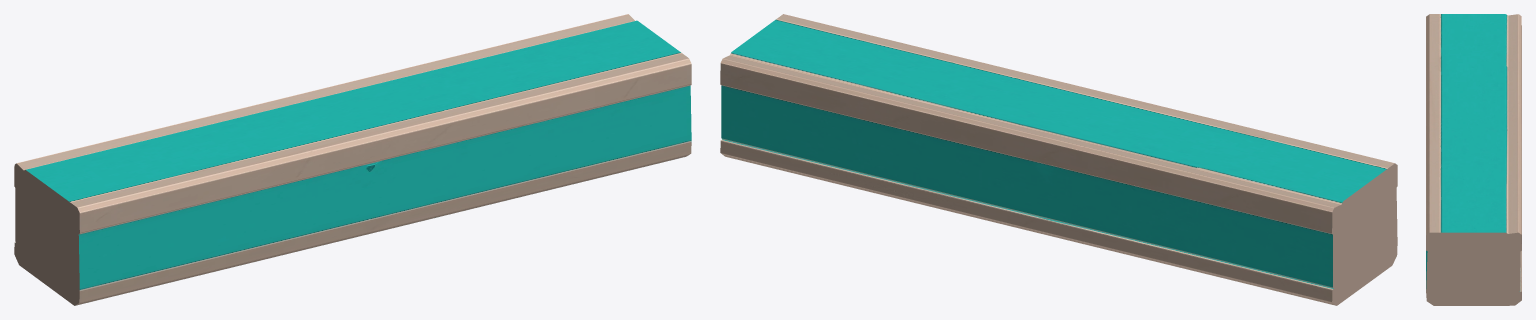
The model's file is edge_teal.glb.
3 renders of one model, left to right at view 1: azimuth 30°, elevation 25°; view 2: azimuth 150°, elevation 25°; view 3: azimuth 270°, elevation 25°, orthographic. The views are drawn at different scales.
Parts seen in each view (by area): view 1: edge_teal; view 2: edge_teal; view 3: edge_teal.
Boxes of the visible parts, box(x1,y1,x2,y2) form: edge_teal: box(14, 14, 691, 305); edge_teal: box(720, 14, 1397, 305); edge_teal: box(1426, 14, 1521, 305).
Size of the model in its own units: 2.8 by 0.4391 by 0.5194.
Materials: 1 (1 with a texture image).
